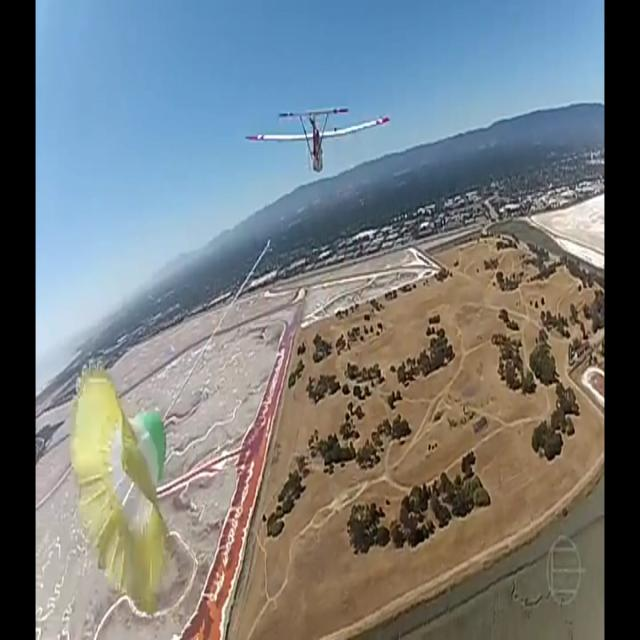iha: (244, 133, 391, 135)
